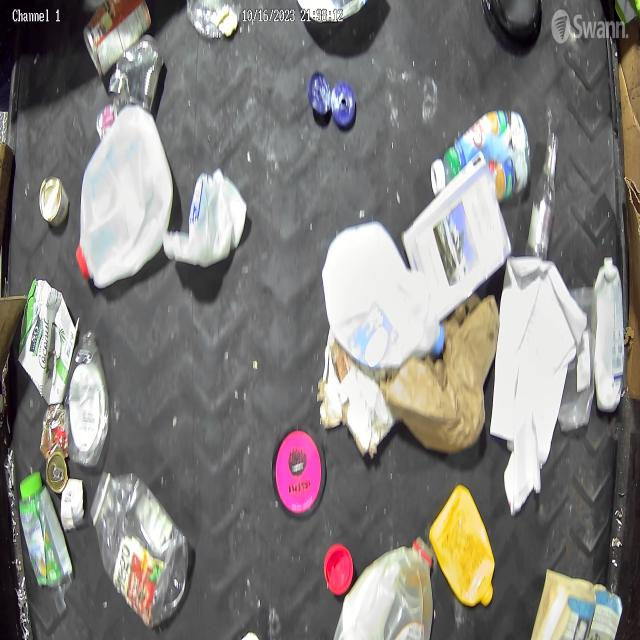can: (82, 0, 153, 78), (107, 34, 164, 112), (39, 174, 71, 229), (45, 439, 69, 494), (96, 105, 119, 143)
milk_jug: (321, 220, 446, 370), (75, 103, 174, 289), (332, 535, 436, 640), (162, 168, 248, 268)
non_white_jug: (429, 483, 496, 610)
plastic_bottle: (90, 468, 188, 627)
